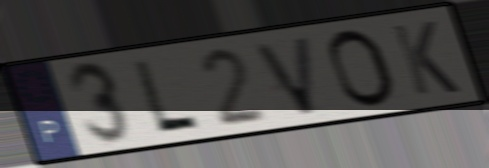2: (198, 45, 270, 129)
3: (67, 58, 134, 150)
K: (388, 19, 464, 98)
L: (130, 57, 205, 134)
O: (325, 26, 400, 111)
V: (249, 32, 321, 119)
